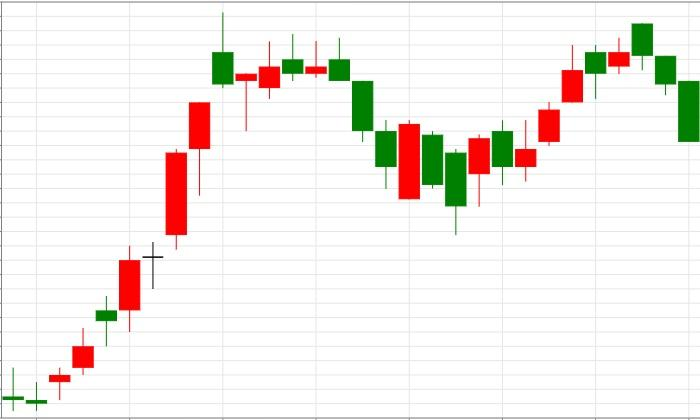bearish_engulfing_fall: (26, 13, 351, 411)
three_black_crows_fall: (26, 13, 398, 410), (444, 23, 700, 235)
